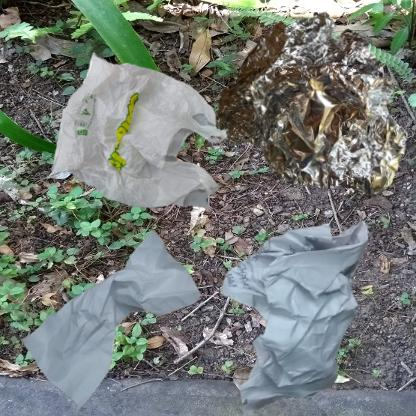aluminio: (213, 10, 409, 201)
bolsa: (10, 10, 290, 296)
papel: (10, 213, 215, 416), (213, 213, 390, 416)
